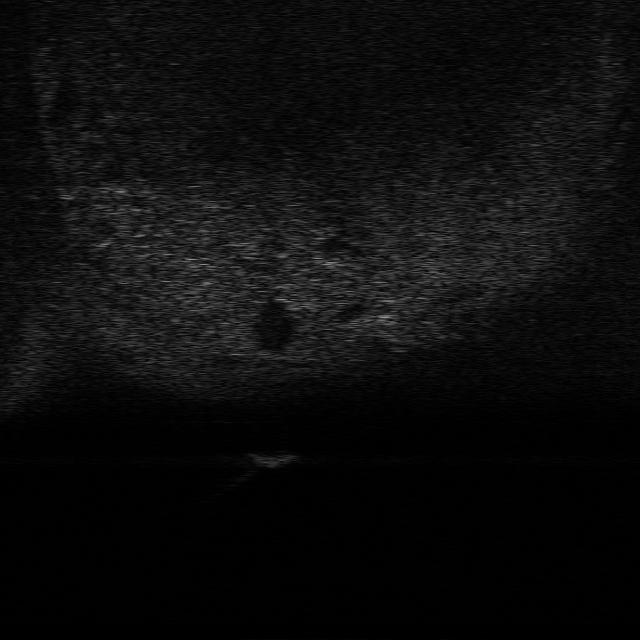cube: (248, 448, 298, 468)
